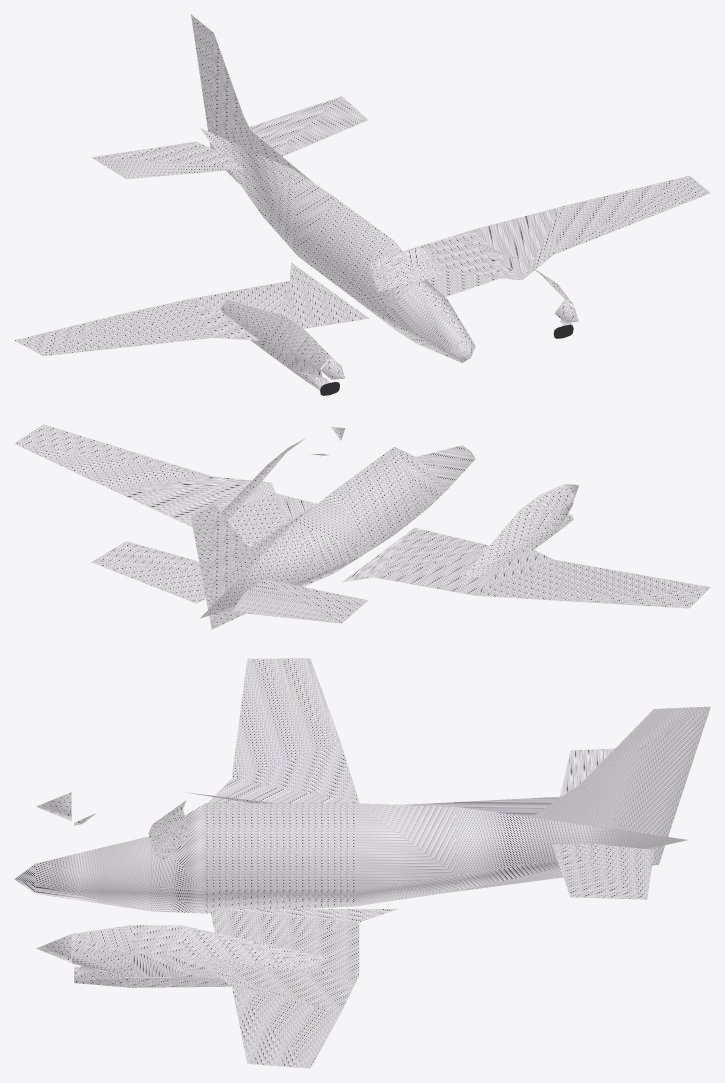
File: HTAI Beechcraft King Air C90 4Blade21Fin MSFS_LOD2.gltf
3 views of the same model, one above another, from view 1: azimuth 30°, elevation 25°; view 2: azimuth 150°, elevation 25°; view 3: azimuth 270°, elevation 25° (orthographic). The views are drawn at different scales.
Parts seen in each view (by area): view 1: node2; view 2: node2; view 3: node2.
Boxes of the visible parts, x1,y1,x2,y2 form: node2: (14,14,710,390); node2: (14,424,710,629); node2: (14,658,710,1068).
Bounding box in the file's own units: 15.11 × 3.61 × 10.85.
